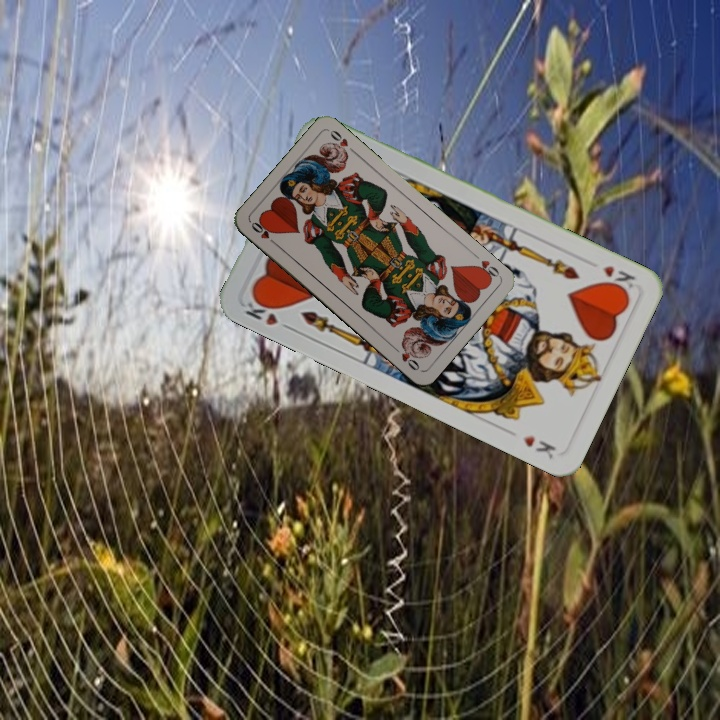HK: (240, 291, 296, 334), (598, 261, 638, 296)
HO: (247, 218, 281, 248), (470, 256, 503, 283)
